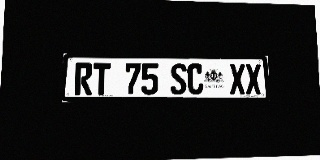5: (142, 63, 158, 95)
7: (124, 63, 141, 95)
C: (187, 63, 204, 95)
R: (74, 63, 93, 95)
S: (170, 63, 187, 95)
T: (93, 63, 110, 95)
X: (229, 64, 246, 94), (245, 64, 262, 94)
